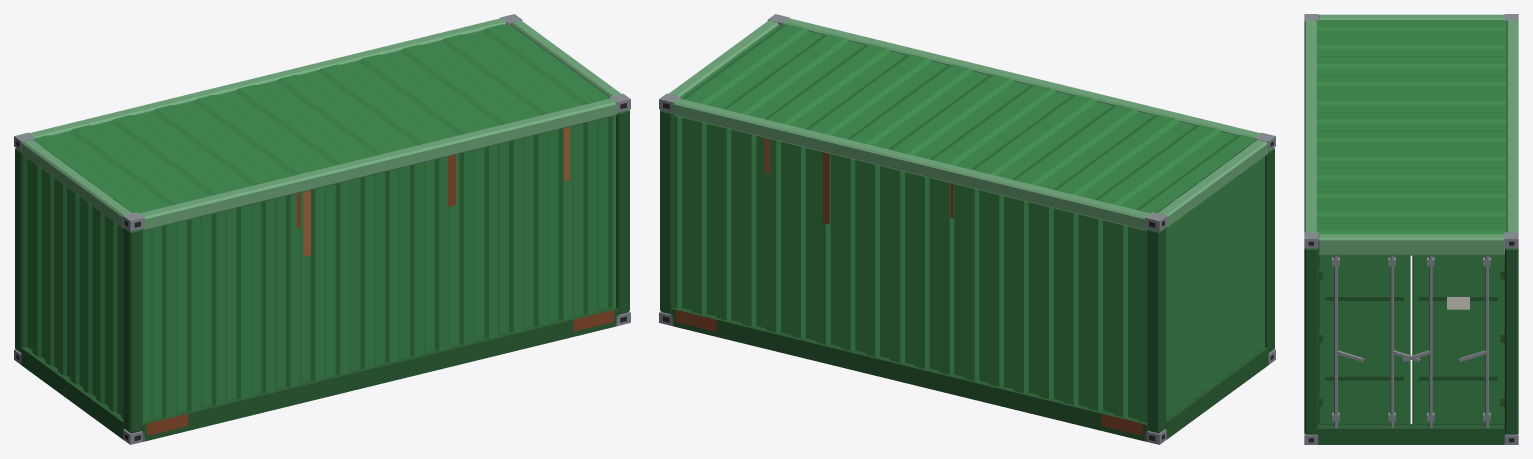
Rendered from harbor_container_green_v01.glb.
3 views of the same model, side by side, from view 1: azimuth 30°, elevation 25°; view 2: azimuth 150°, elevation 25°; view 3: azimuth 270°, elevation 25° (orthographic). The views are drawn at different scales.
Visible parts, largest first — view 1: container_green; view 2: container_green; view 3: container_green.
Part boxes in pixels (left/top/right/bottom): container_green: left=14, top=14, right=630, bottom=444; container_green: left=659, top=14, right=1275, bottom=444; container_green: left=1304, top=14, right=1518, bottom=444.
Size of the model in its own units: 6.06 by 2.59 by 2.44.
